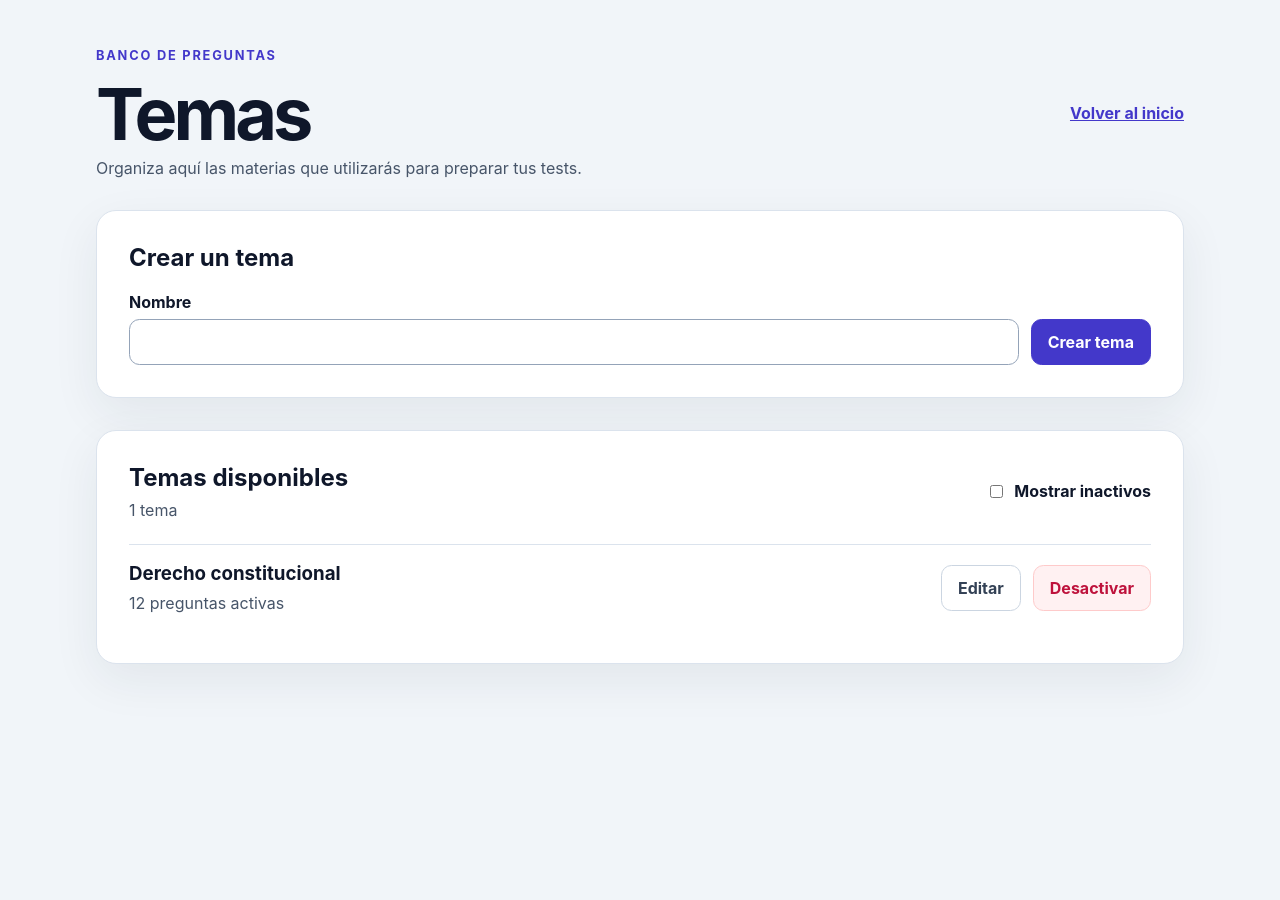
Test case: TopicsPage › edits and deactivates a topic after confirmation
The image size is (1280, 900).
expect the heading "Derecho constitucional" is shown: met, box [129, 562, 341, 585]
Click the button "Editar".
click(981, 588)  # box [941, 565, 1021, 611]
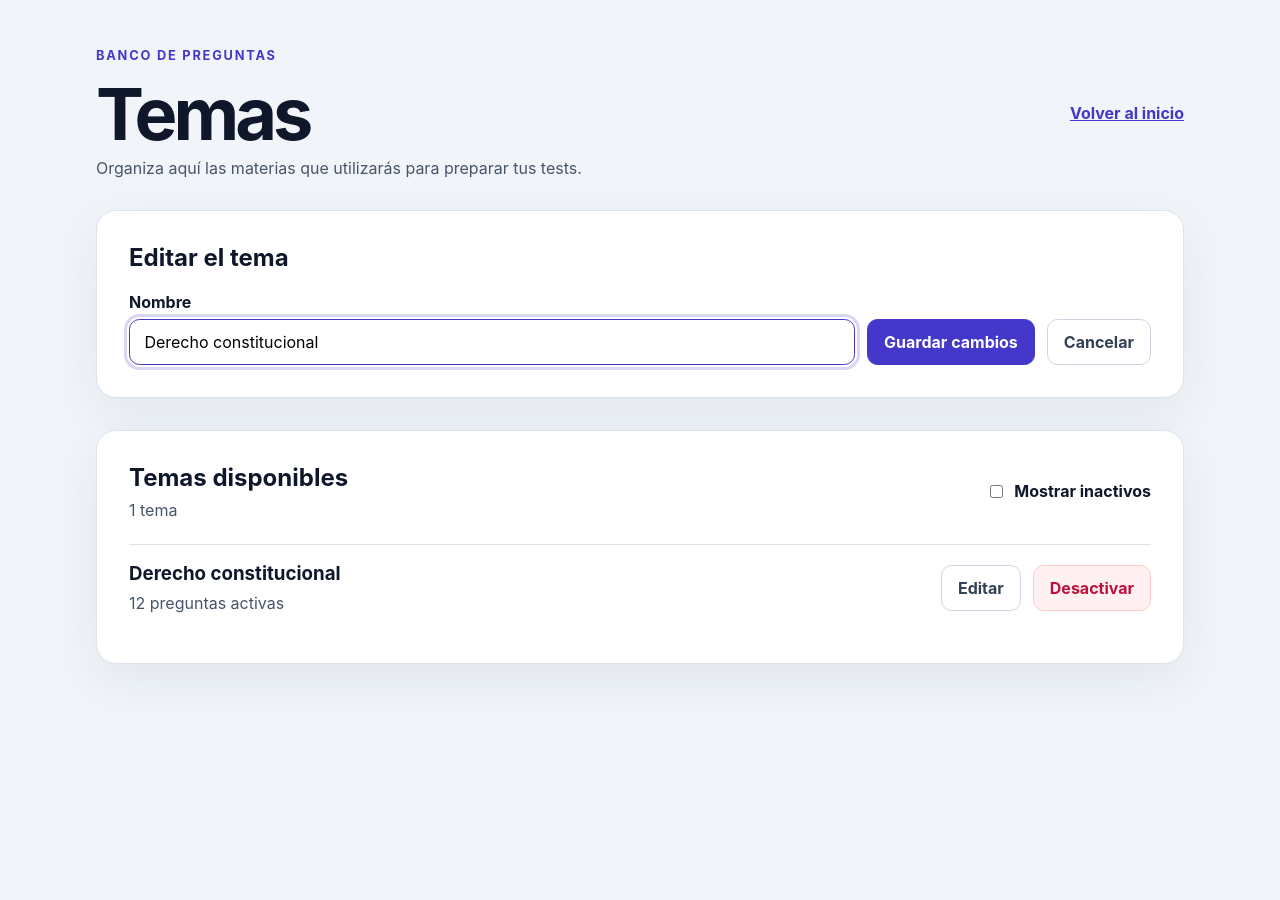
Replace the text in the field labelled "Nombre" with "Derecho administrativo" at (492, 342), box [129, 319, 855, 365]
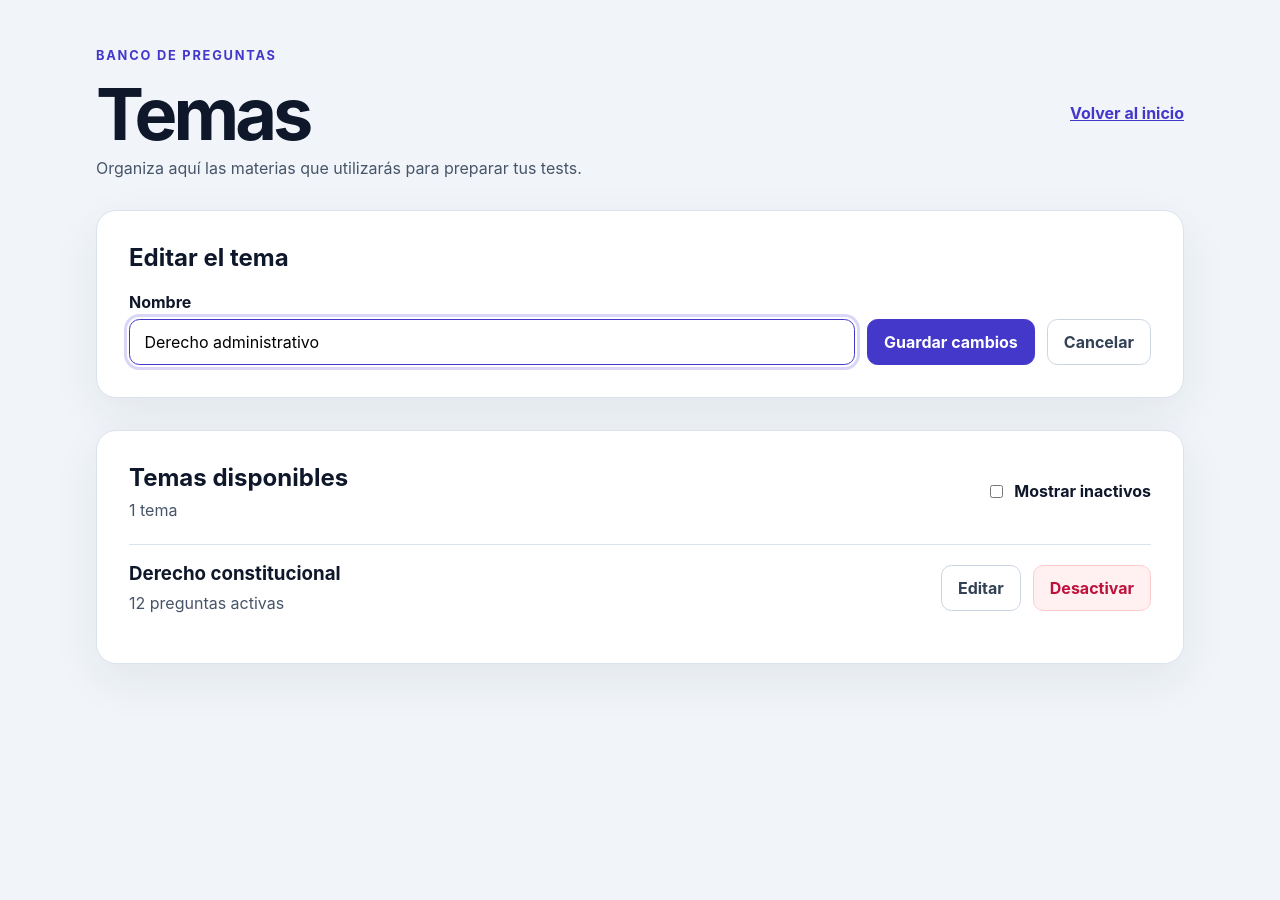
Click the button "Guardar cambios".
click(951, 342)  # box [867, 319, 1035, 365]
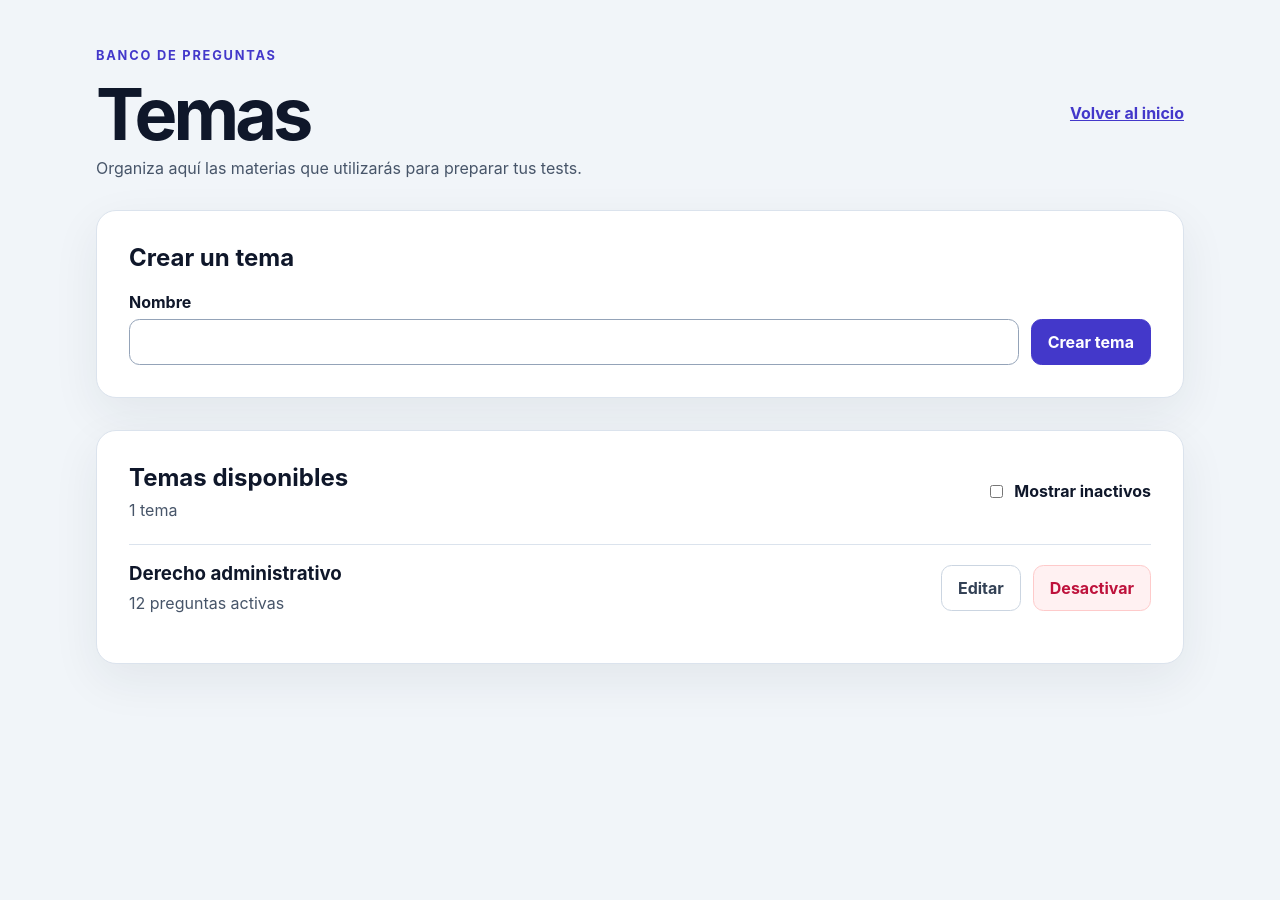
expect the heading "Derecho administrativo" is shown: met, box [129, 562, 342, 585]
Click the button "Desactivar".
click(1092, 588)  # box [1033, 565, 1151, 611]
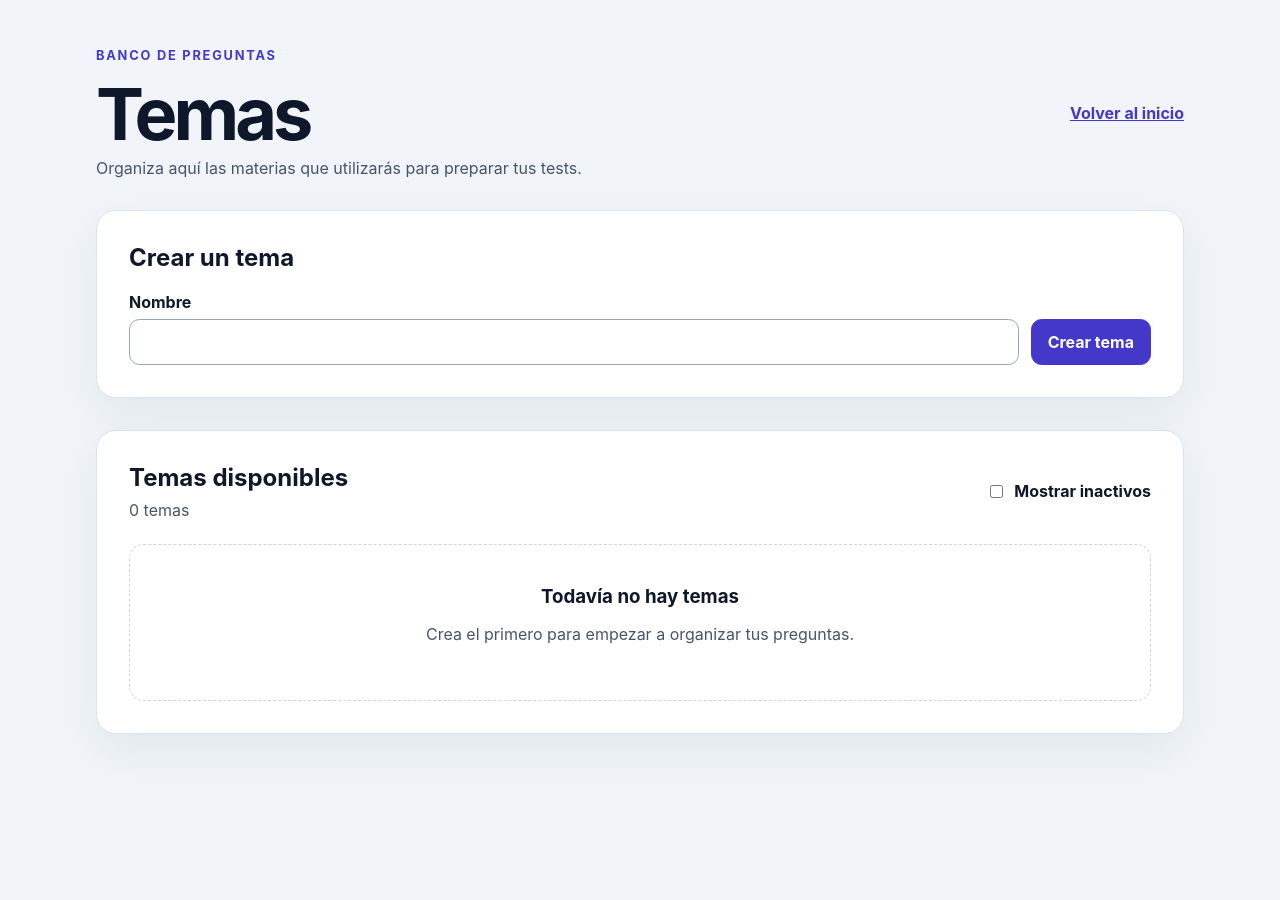
expect the heading "Todavía no hay temas" is shown: met, box [541, 585, 739, 608]
